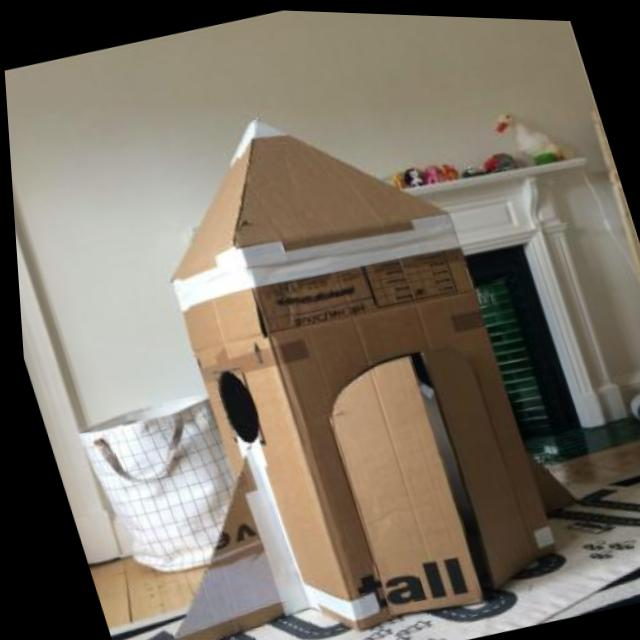box: (100, 44, 631, 640)
